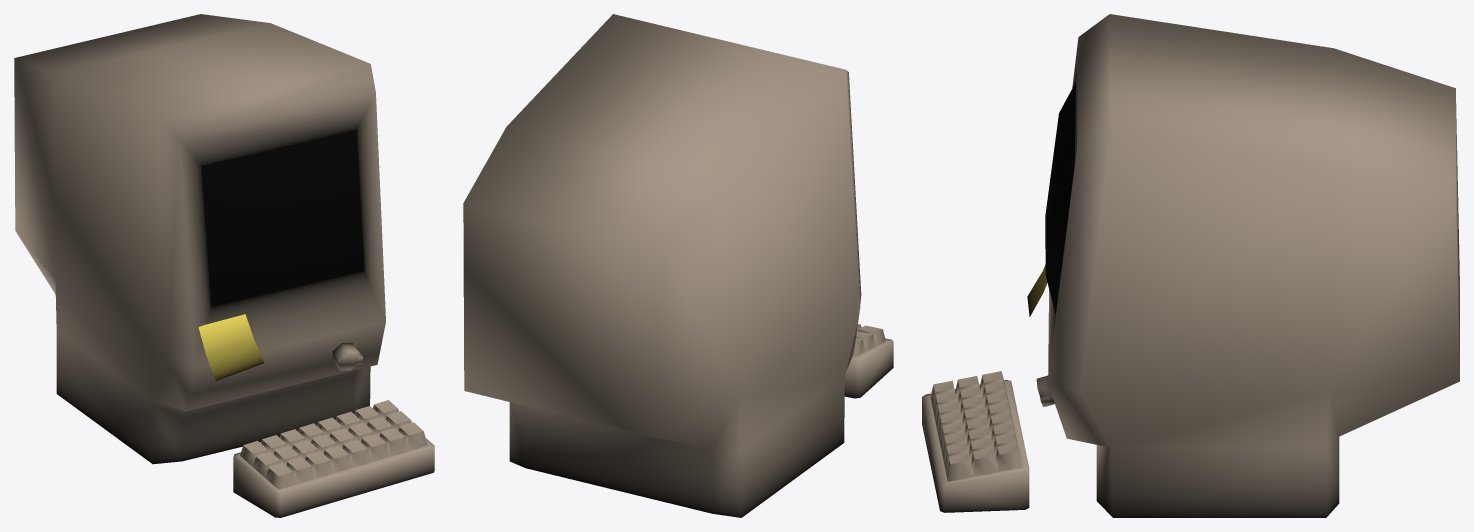
3 views of the same model, side by side, from view 1: azimuth 30°, elevation 25°; view 2: azimuth 150°, elevation 25°; view 3: azimuth 270°, elevation 25° (orthographic). The views are drawn at different scales.
Visible parts, largest first — view 1: PC, Keyboard; view 2: PC, Keyboard; view 3: PC, Keyboard.
Boxes of the visible parts, x1,y1,x2,y2 form: PC: (14, 14, 385, 464); Keyboard: (233, 400, 434, 517); PC: (463, 14, 861, 517); Keyboard: (844, 324, 893, 398); PC: (1027, 14, 1459, 517); Keyboard: (922, 371, 1029, 512).
Size of the model in its own units: 0.9071 by 1.39 by 1.75.
